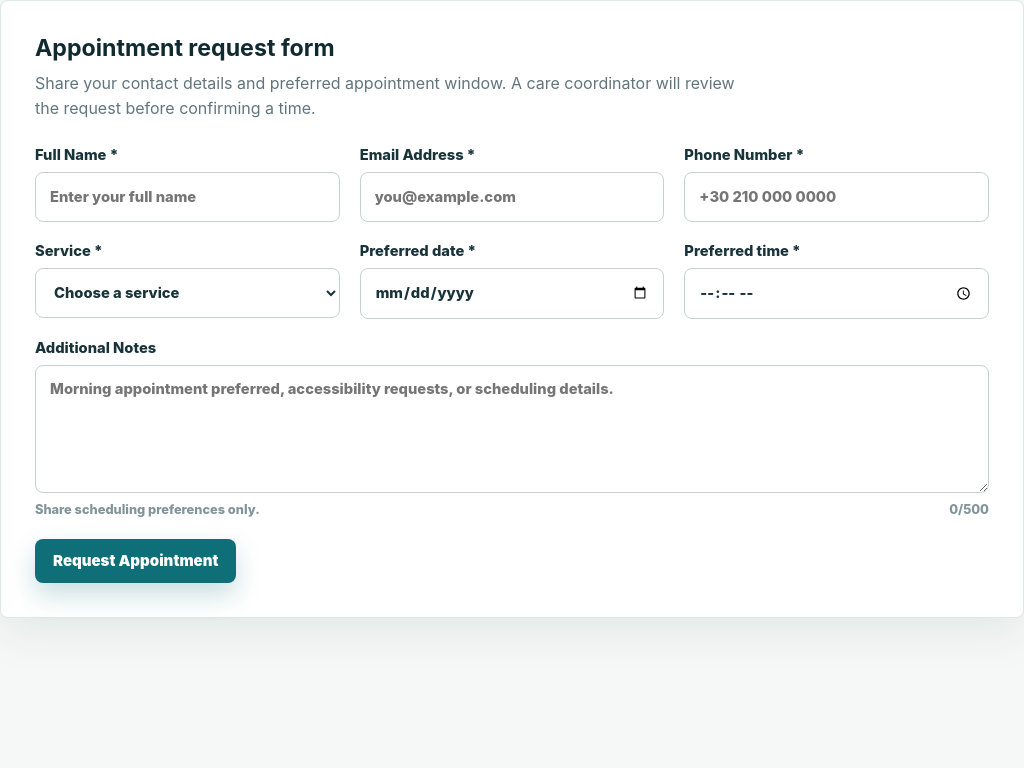
Test: BookingForm › empty submit shows required validation for booking request fields
Click the button "Request Appointment" at (136, 560), box [35, 538, 236, 582]
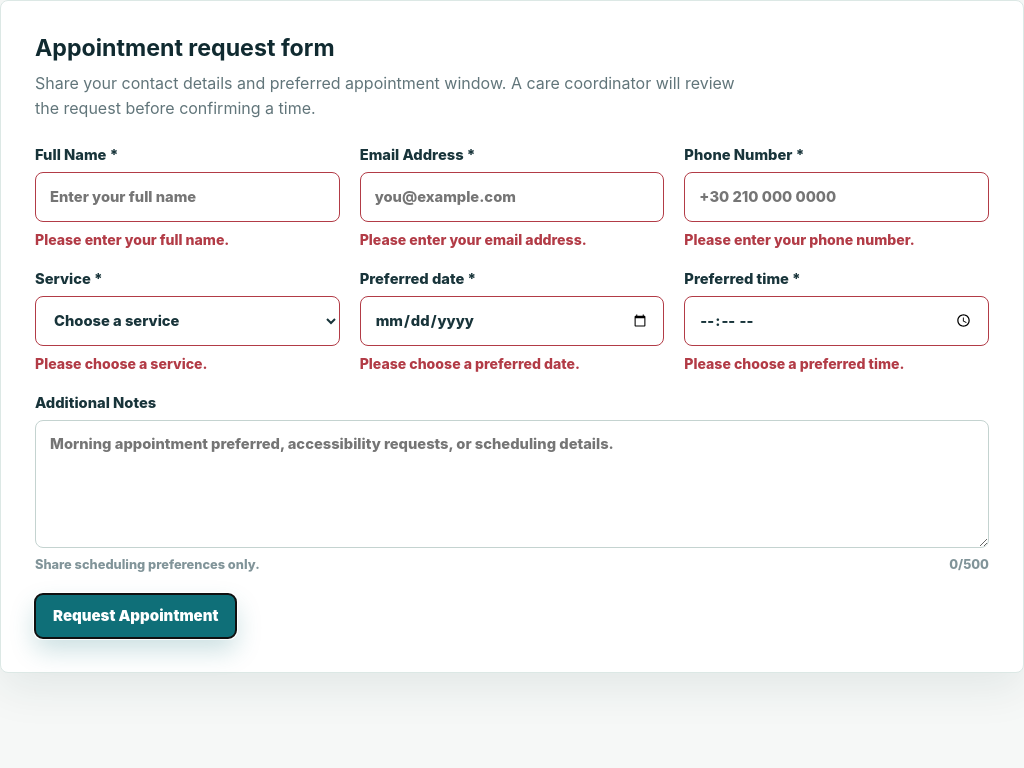
Now the text "Please enter your full name." is shown, box [35, 231, 229, 248]
Now the text "Please enter your email address." is shown, box [360, 231, 587, 248]
Now the text "Please enter your phone number." is shown, box [684, 231, 915, 248]
